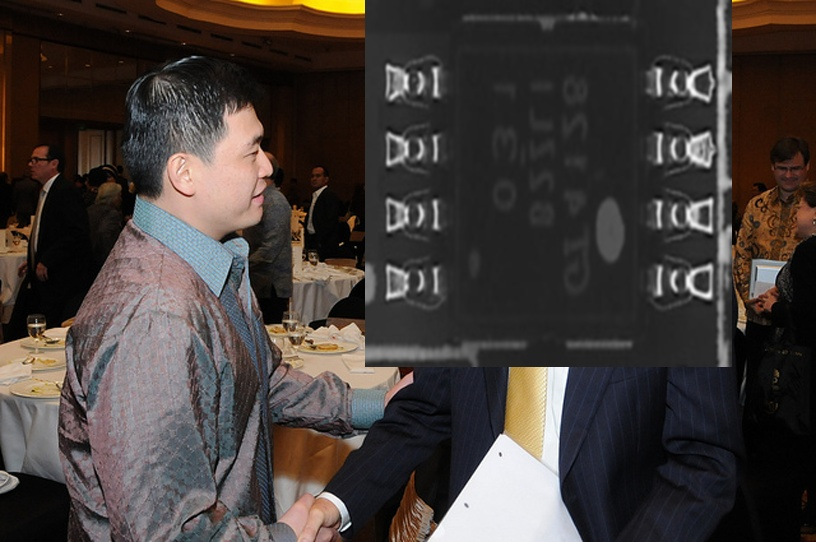PAD: (627, 32, 721, 330), (372, 33, 465, 330)
wineglass: (281, 309, 299, 354), (26, 314, 45, 355), (285, 325, 306, 358), (308, 252, 317, 275)
